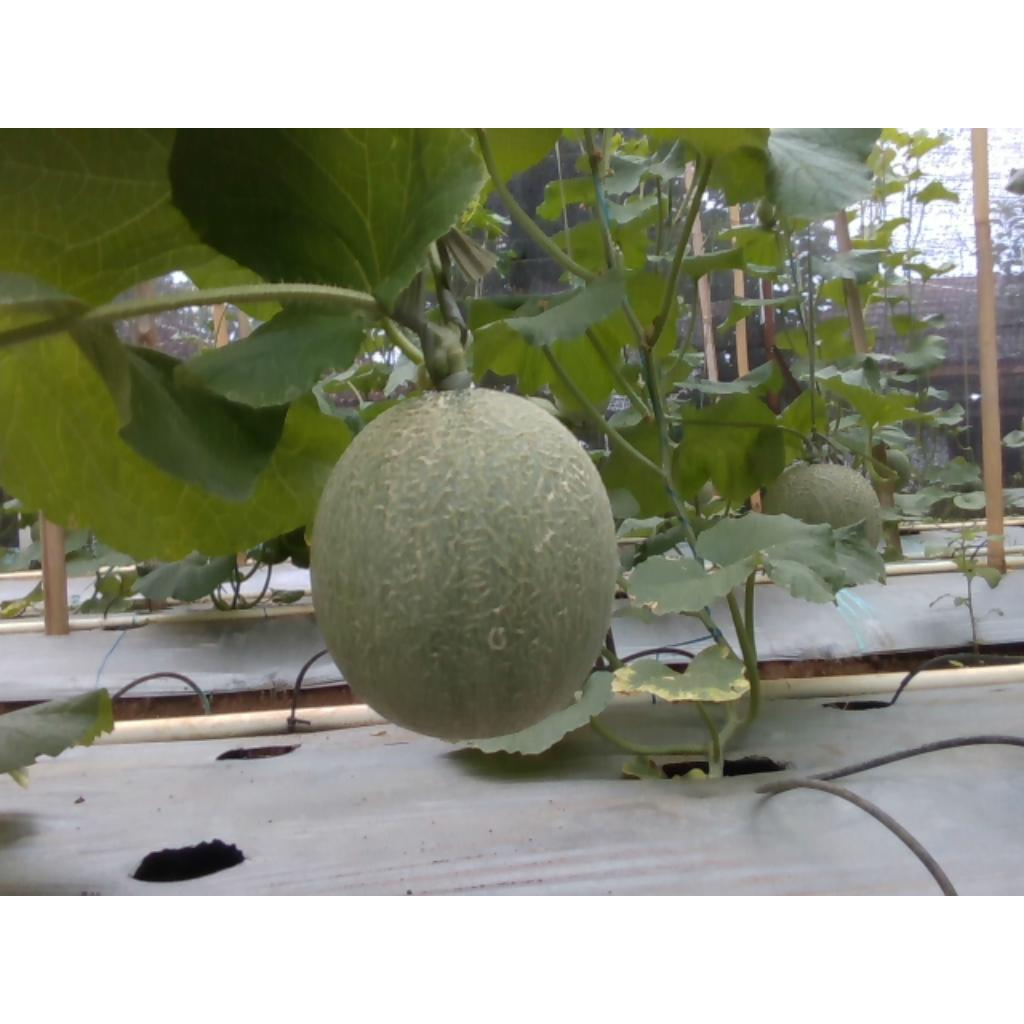melon: (312, 389, 619, 740)
